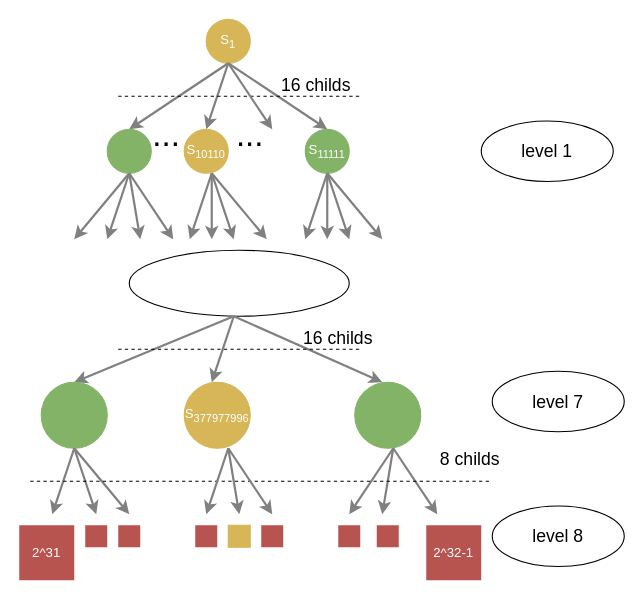
This 644x600 diagram has some shape labels left out. The box of each missing label's shape, as (x1, y1, x2, y2) in pixels:
levels 2,3,4,5,6: (128, 249, 349, 316)
S 10000: (106, 128, 151, 173)
S 2^28: (40, 381, 107, 448)
S 2^29-1: (354, 381, 421, 448)
